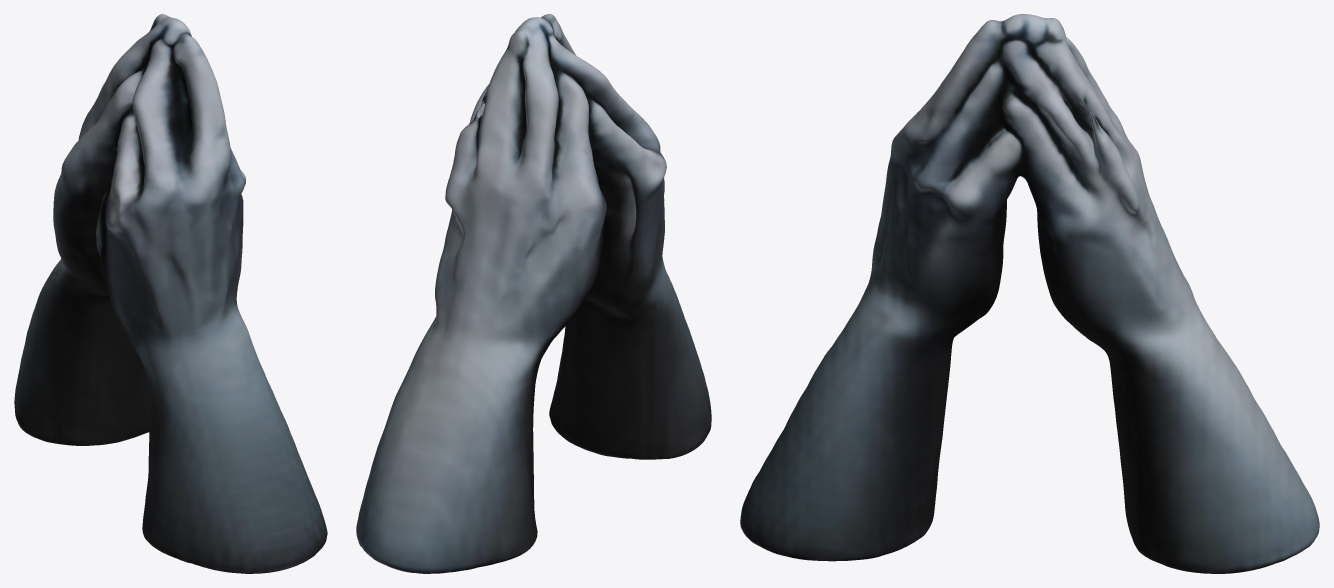
Rendered from 30ddbf7c22db_hands_sculpture__3d.fbx.
3 renders of one model, left to right at view 1: azimuth 30°, elevation 25°; view 2: azimuth 150°, elevation 25°; view 3: azimuth 270°, elevation 25°, orthographic. The views are drawn at different scales.
Parts seen in each view (by area): view 1: high_poly; view 2: high_poly; view 3: high_poly.
Boxes of the visible parts, x1,y1,x2,y2 form: high_poly: [14, 14, 327, 573]; high_poly: [356, 14, 711, 573]; high_poly: [740, 14, 1319, 573].
Bounding box in the file's own units: 39.82 × 99.21 × 100.
